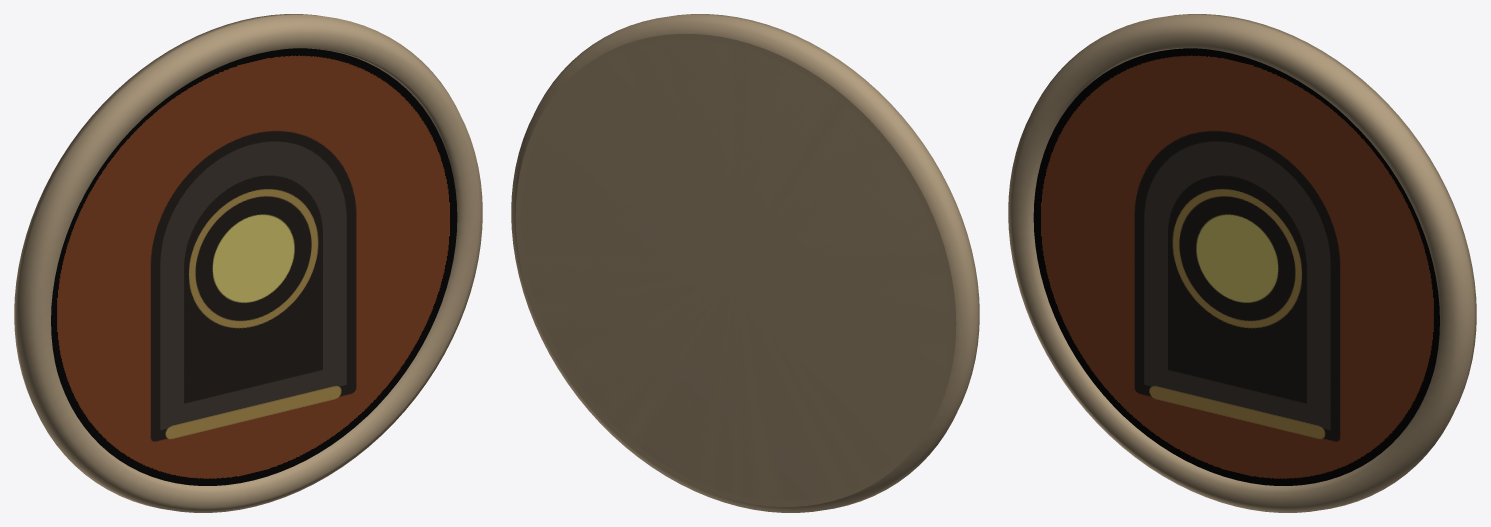
File: tarsine.glb
3 renders of one model, left to right at view 1: azimuth 30°, elevation 25°; view 2: azimuth 150°, elevation 25°; view 3: azimuth 330°, elevation 25°, orthographic.
Parts seen in each view (by area): view 1: emblem_tarsine; view 2: emblem_tarsine; view 3: emblem_tarsine.
Part boxes in pixels (x1,y1,x2,y2): emblem_tarsine: (14, 14, 482, 512); emblem_tarsine: (511, 14, 979, 512); emblem_tarsine: (1008, 14, 1476, 512).
Size of the model in its own units: 0.966 by 0.966 by 0.069.
2 materials, 1 textured.
